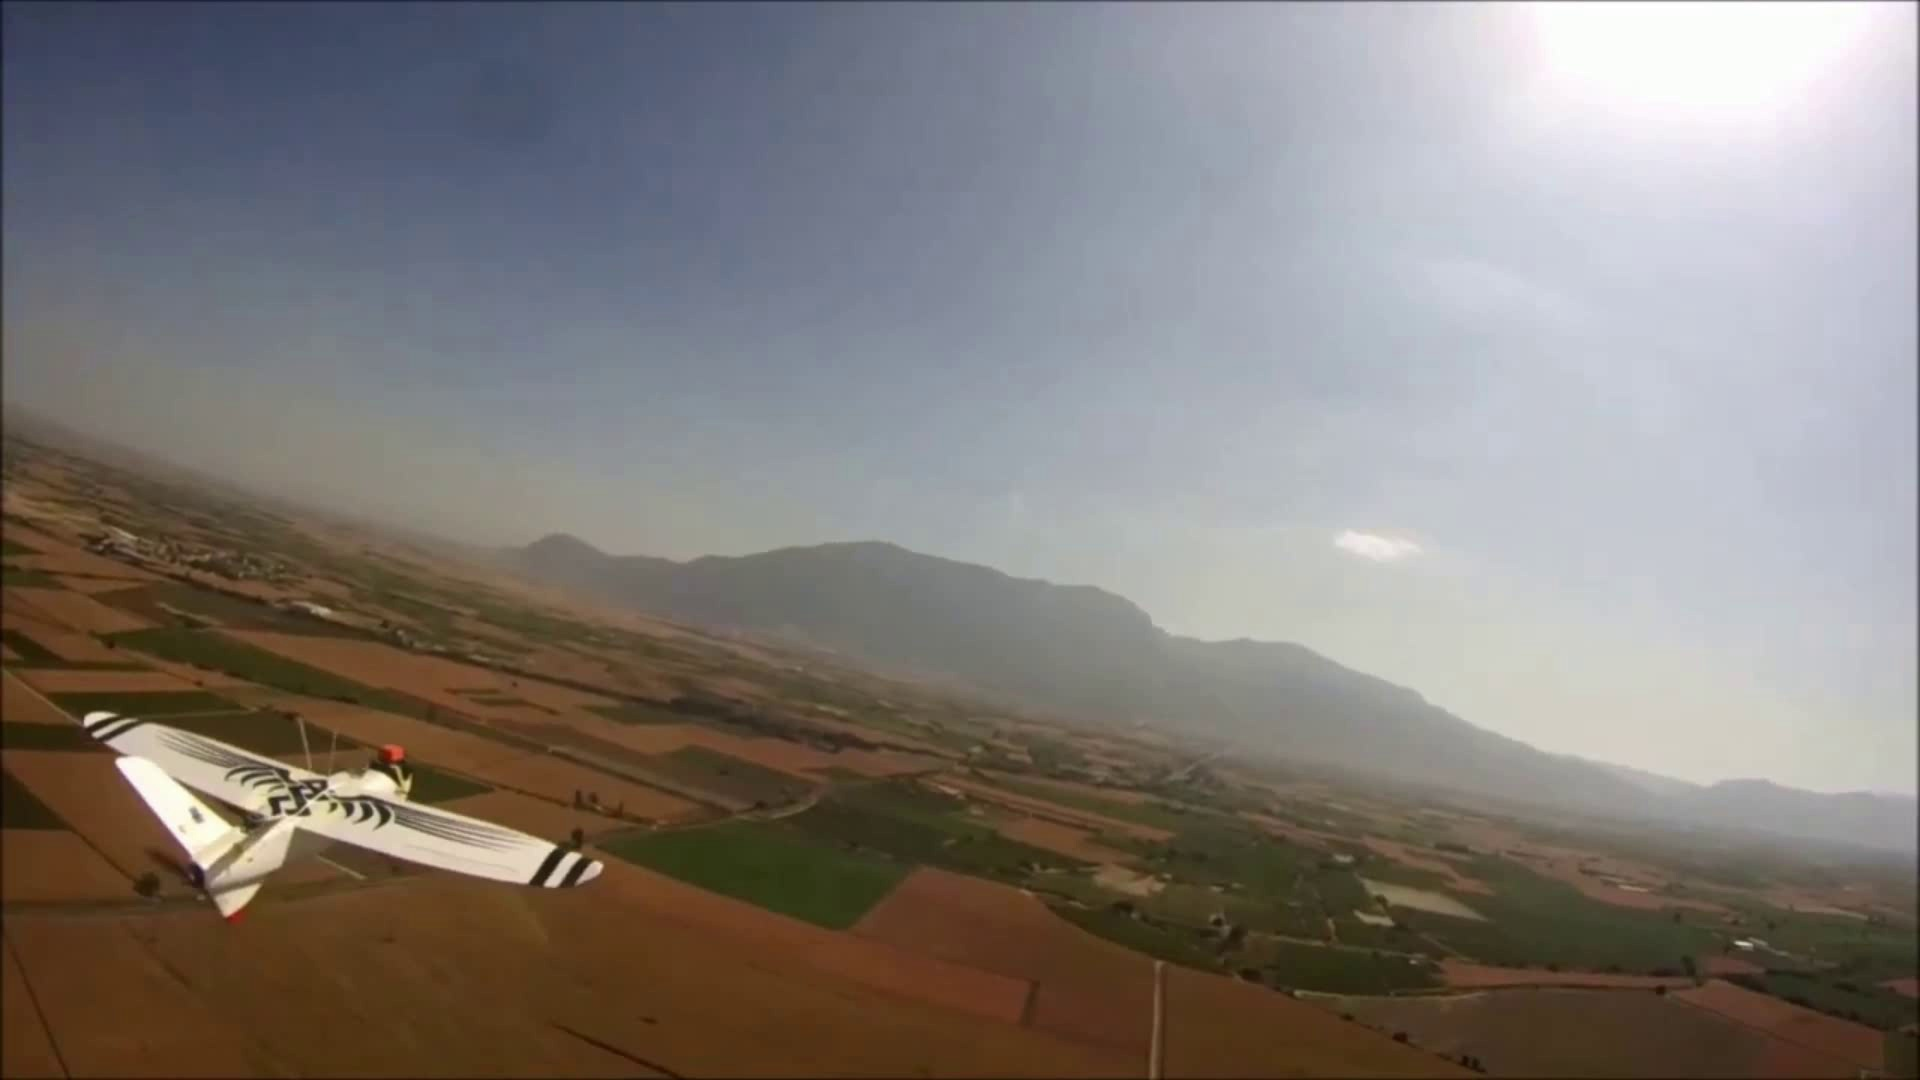airplane: (3, 667, 608, 921)
